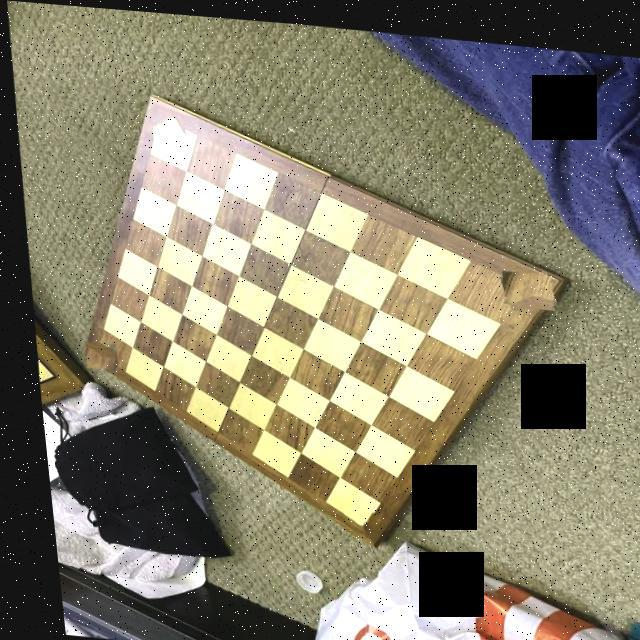chess-table-corners: (494, 259, 549, 304), (146, 108, 184, 144), (330, 500, 366, 534), (76, 340, 109, 369)
